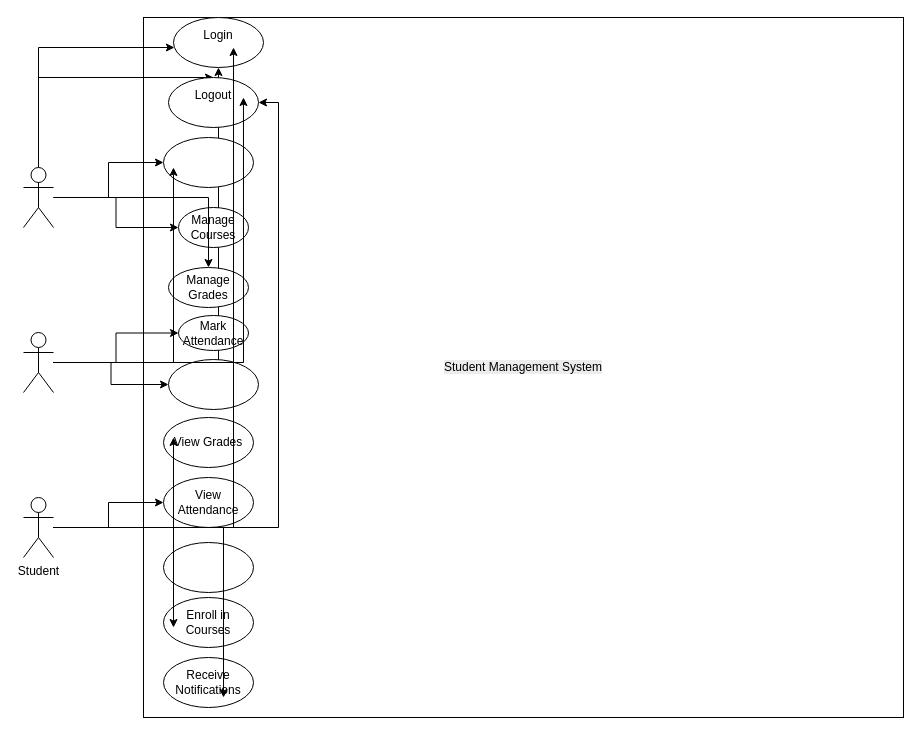
Some shapes in this 921 by 735 pixel diagram are drawn without their labels. The shapes that lost their labels are listed below. From the top down, each one's centre as x and y in pixels, then its label:
At point 208,162: "Manage Students".
At point 38,197: "Admin".
At point 38,362: "Teacher".
At point 213,384: "View Profile".
At point 208,567: "Generate Reports".
